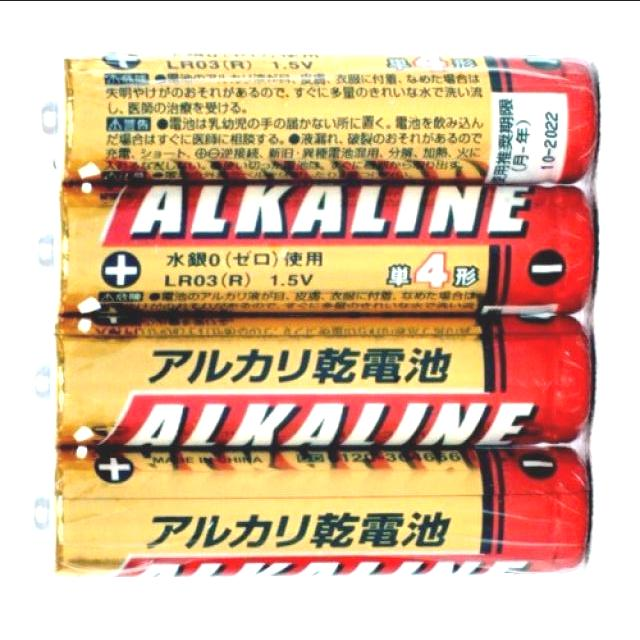AA: (29, 312, 603, 452), (39, 46, 602, 185), (31, 444, 596, 581), (26, 179, 600, 312)
